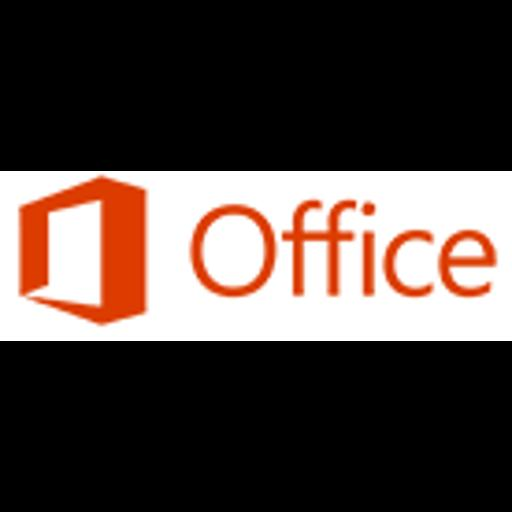Outlook: (0, 171, 512, 341)
